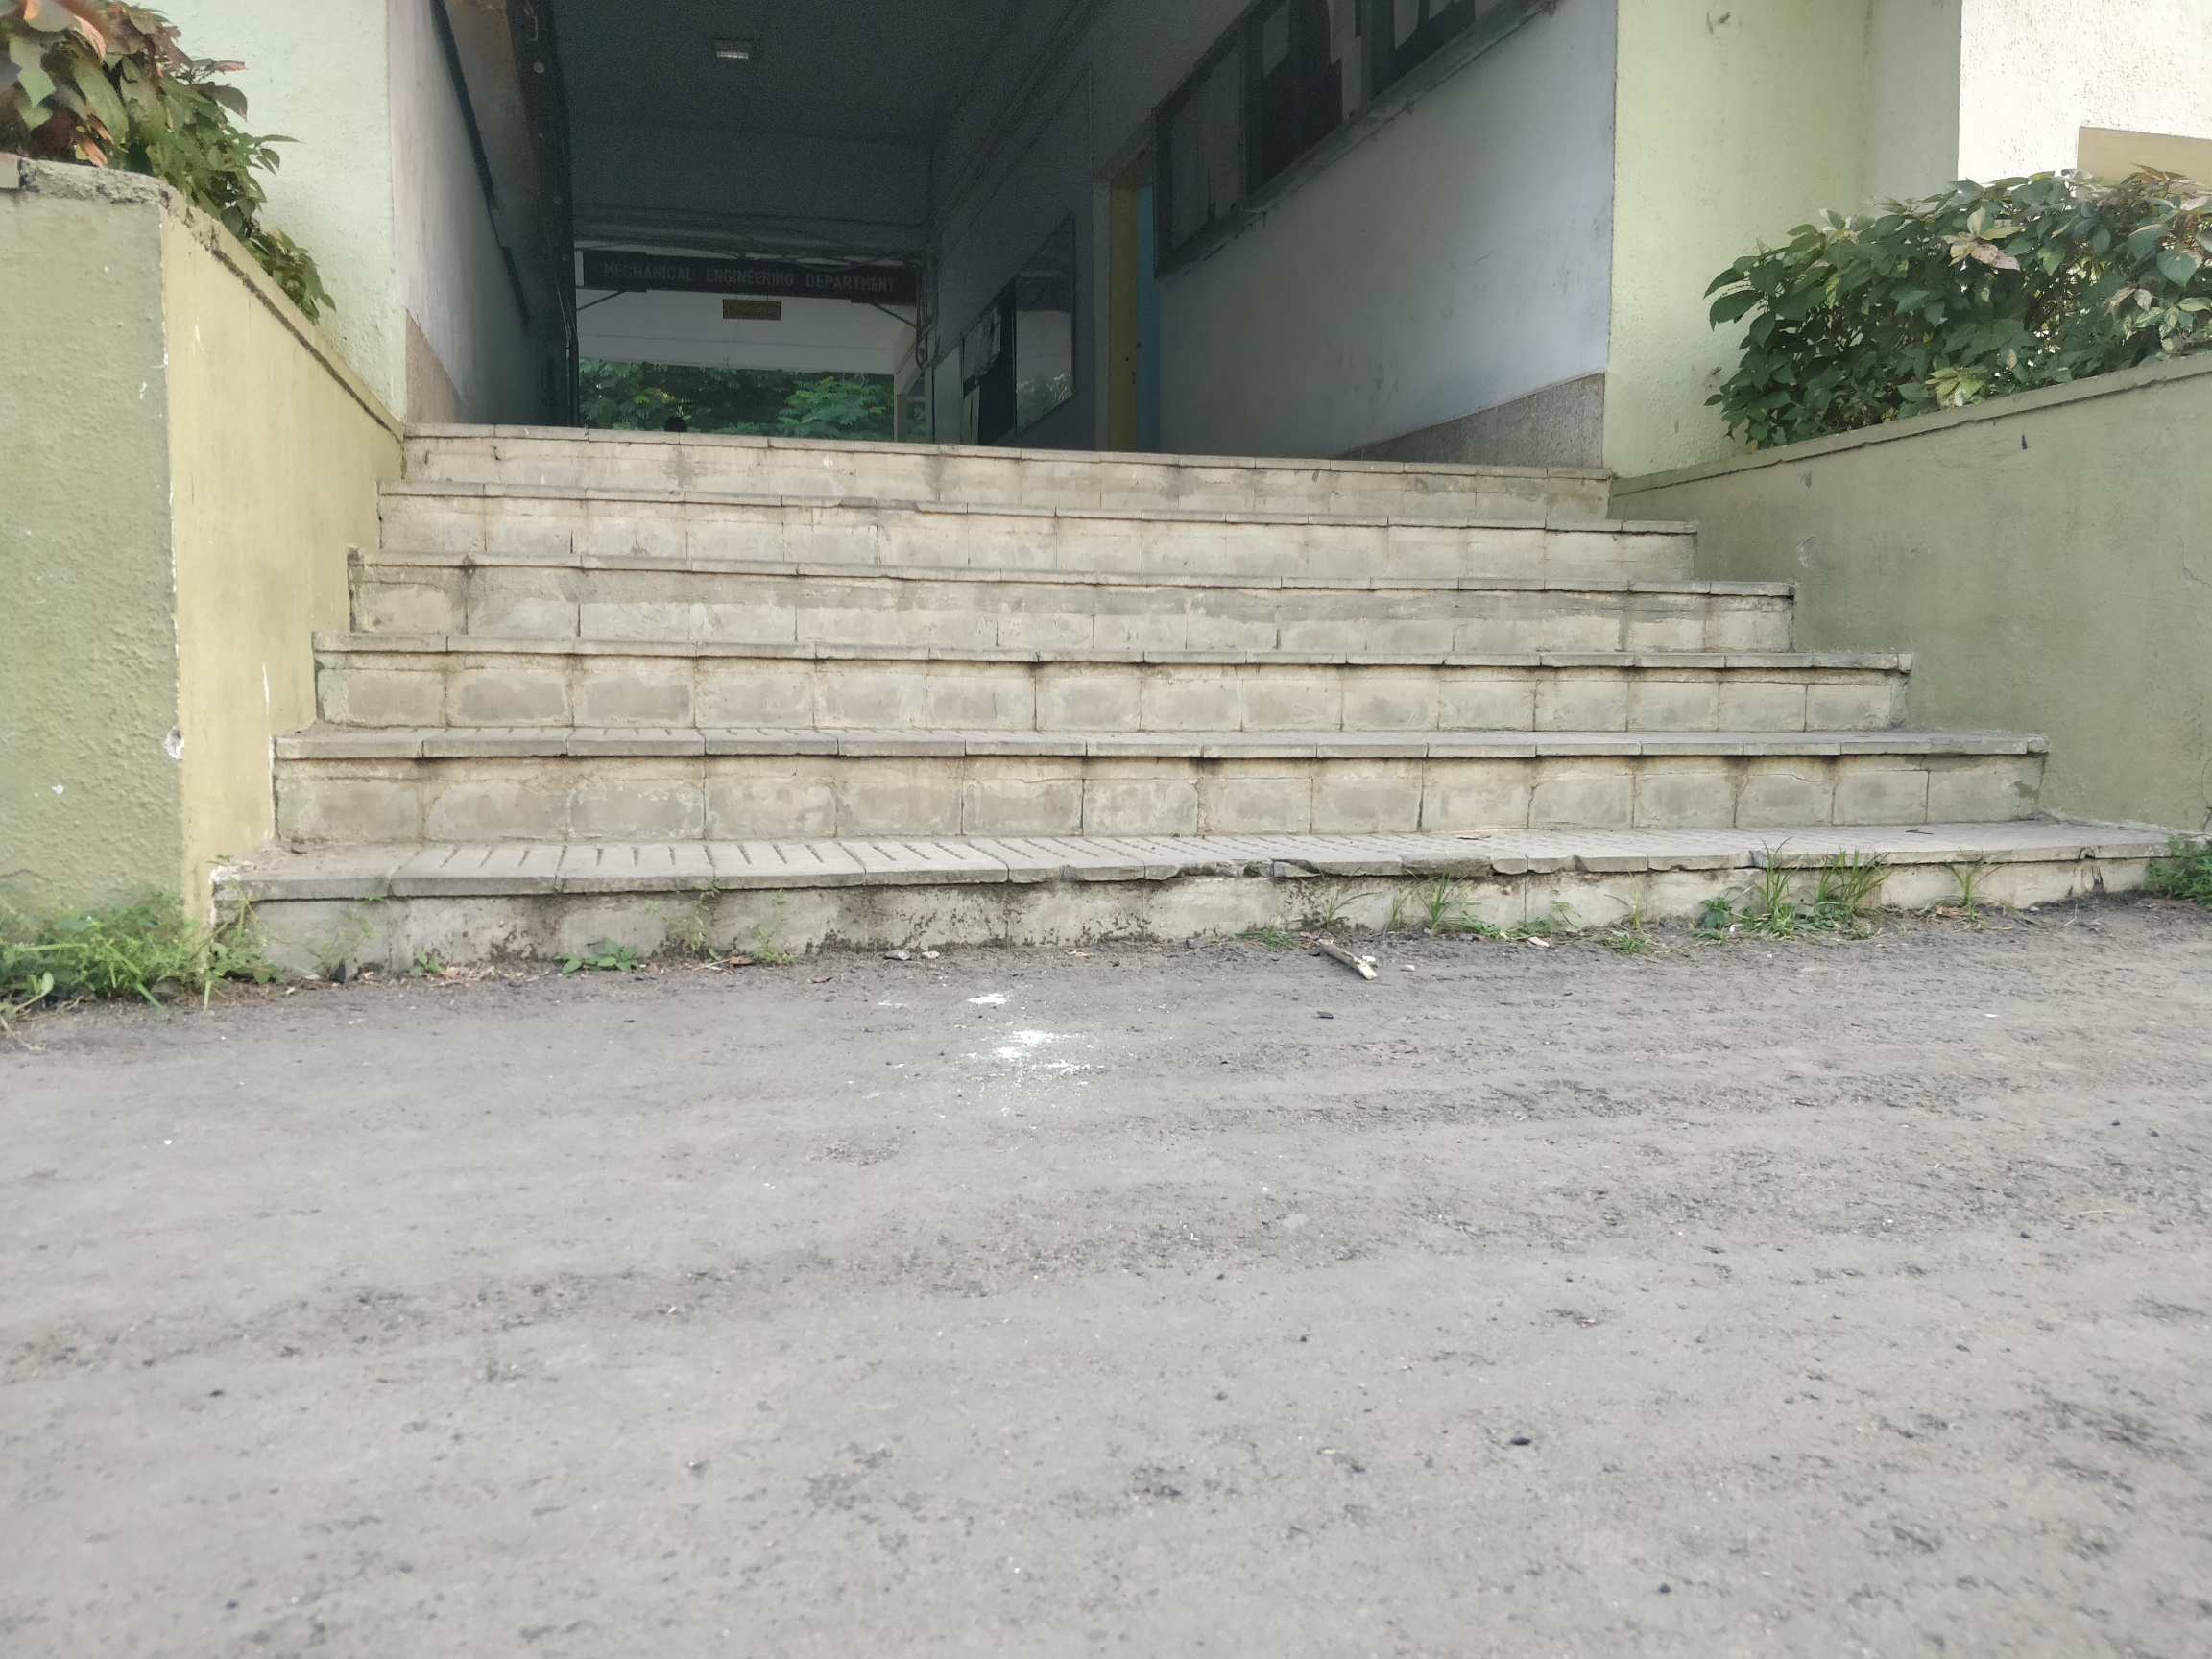stairs_up: (223, 369, 2186, 1014)
